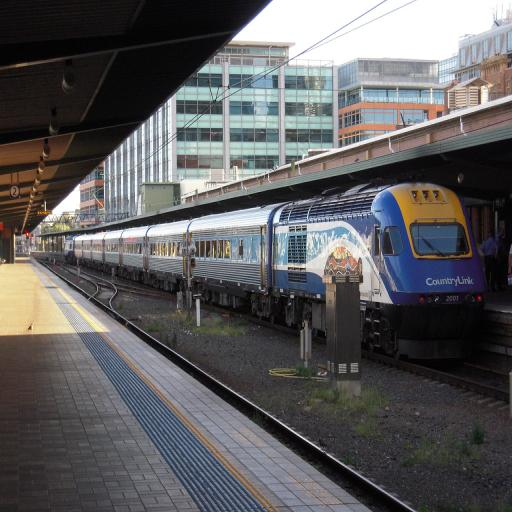platform_edge: (67, 354, 328, 512), (48, 280, 142, 348)
